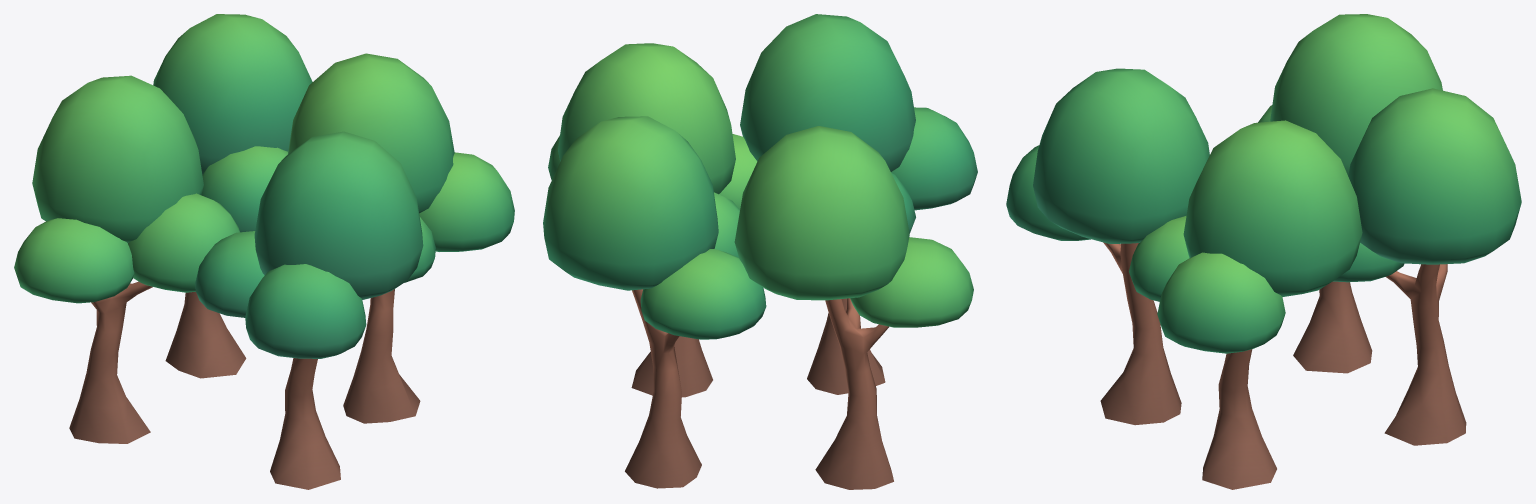
The model's file is Forest_02.fbx.
3 renders of one model, left to right at view 1: azimuth 30°, elevation 25°; view 2: azimuth 150°, elevation 25°; view 3: azimuth 270°, elevation 25°, orthographic. The views are drawn at different scales.
Visible parts, largest first — view 1: Forest_02; view 2: Forest_02; view 3: Forest_02.
Boxes of the visible parts, bbox=[...] form: Forest_02: bbox=[14, 14, 514, 489]; Forest_02: bbox=[543, 14, 977, 489]; Forest_02: bbox=[1006, 14, 1521, 489].
Size of the model in its own units: 193 by 140 by 187.
